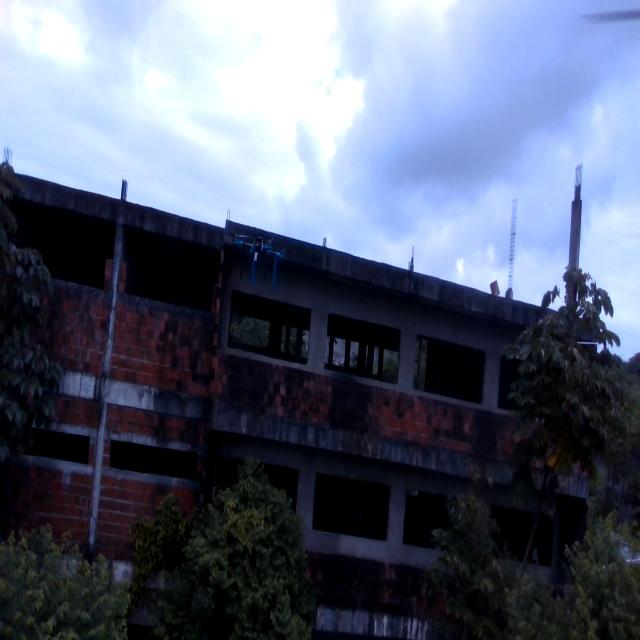-uav-: (222, 210, 296, 301)
